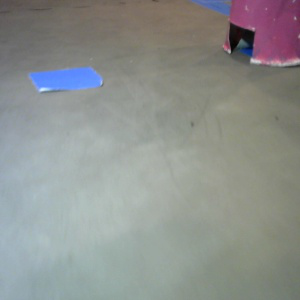right: (221, 1, 300, 67)
